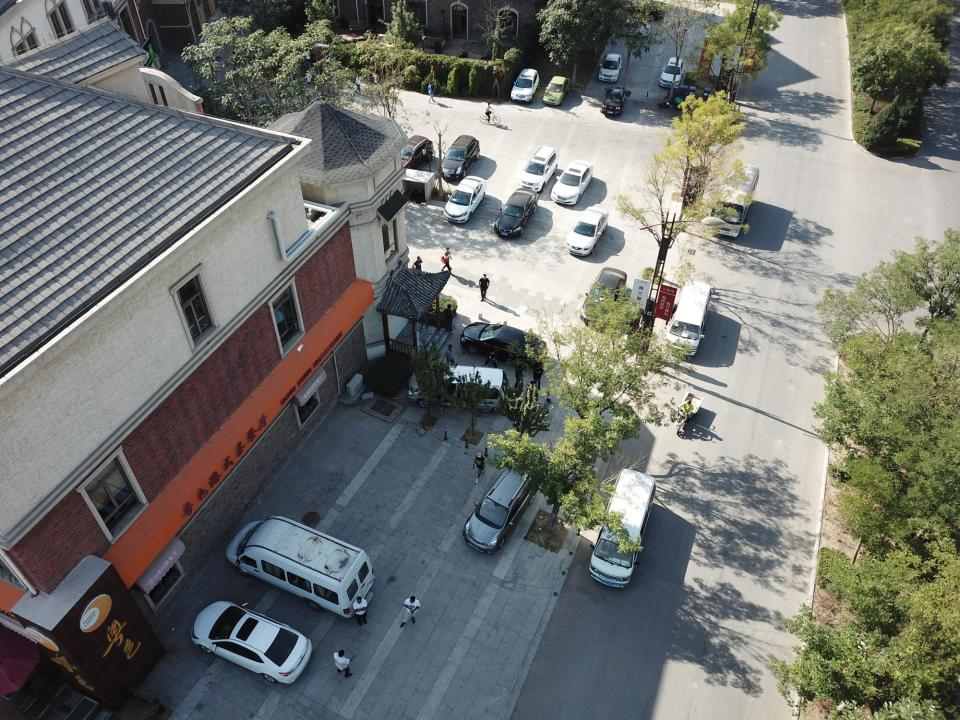bus: (706, 163, 760, 236)
car: (191, 600, 313, 684), (463, 464, 539, 553), (407, 366, 509, 413), (460, 322, 549, 370), (580, 267, 627, 331), (494, 188, 539, 237), (387, 134, 434, 180), (566, 207, 609, 256), (443, 176, 486, 222), (516, 146, 558, 192), (551, 160, 593, 205), (439, 135, 480, 178), (510, 68, 540, 102), (620, 1, 665, 21), (605, 19, 650, 38), (543, 75, 569, 106), (600, 86, 627, 114), (659, 57, 684, 87), (598, 53, 622, 82)
van: (225, 515, 375, 618), (588, 468, 656, 587), (663, 279, 712, 356)
